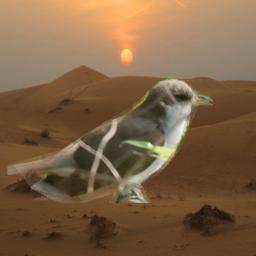Cuckoo: (7, 77, 213, 203)
